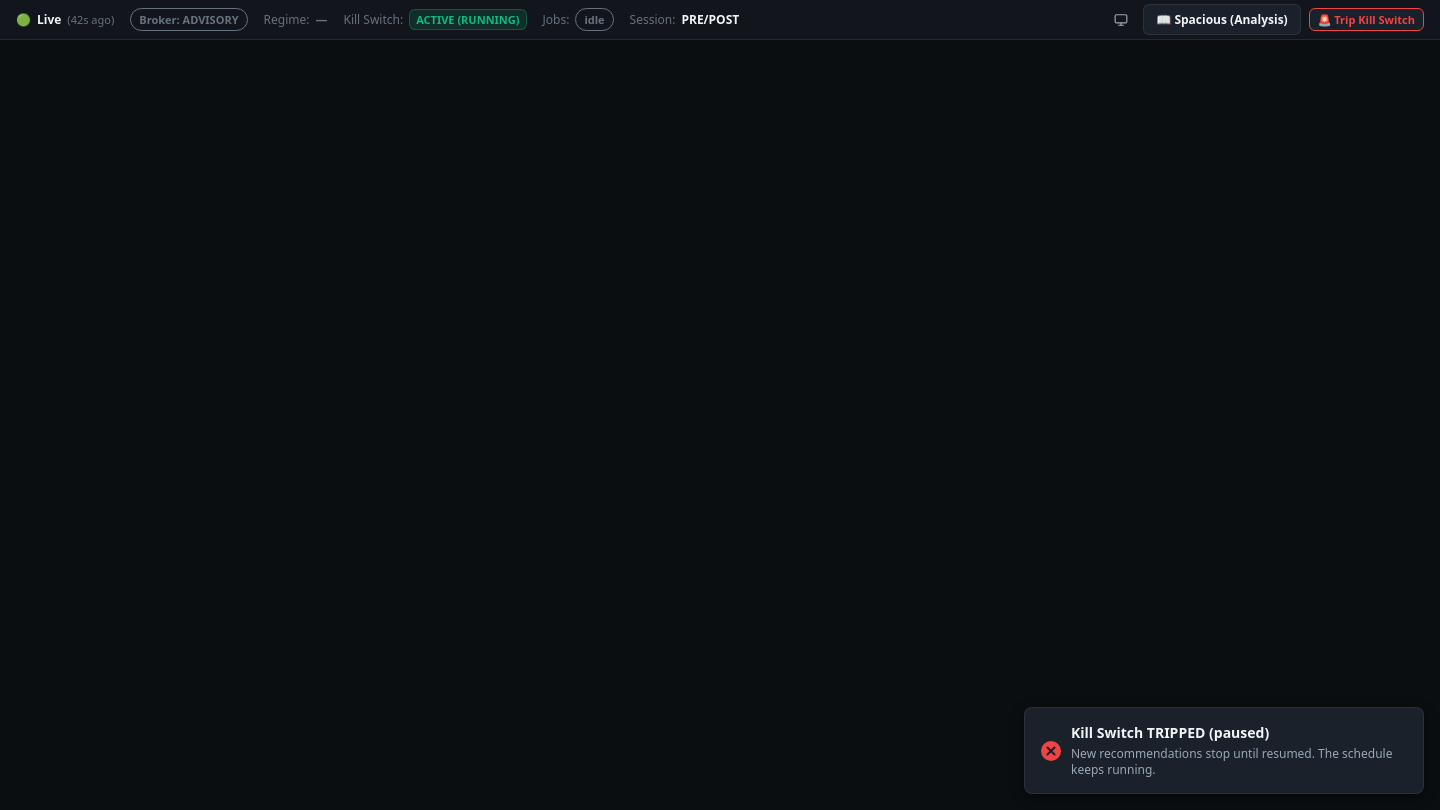
Test: TopStatusBar › shows 'idle' when GET /jobs reports nothing running, and the modal says so too
Step 1. Click the text "idle" → (594, 20), box [575, 8, 614, 31]
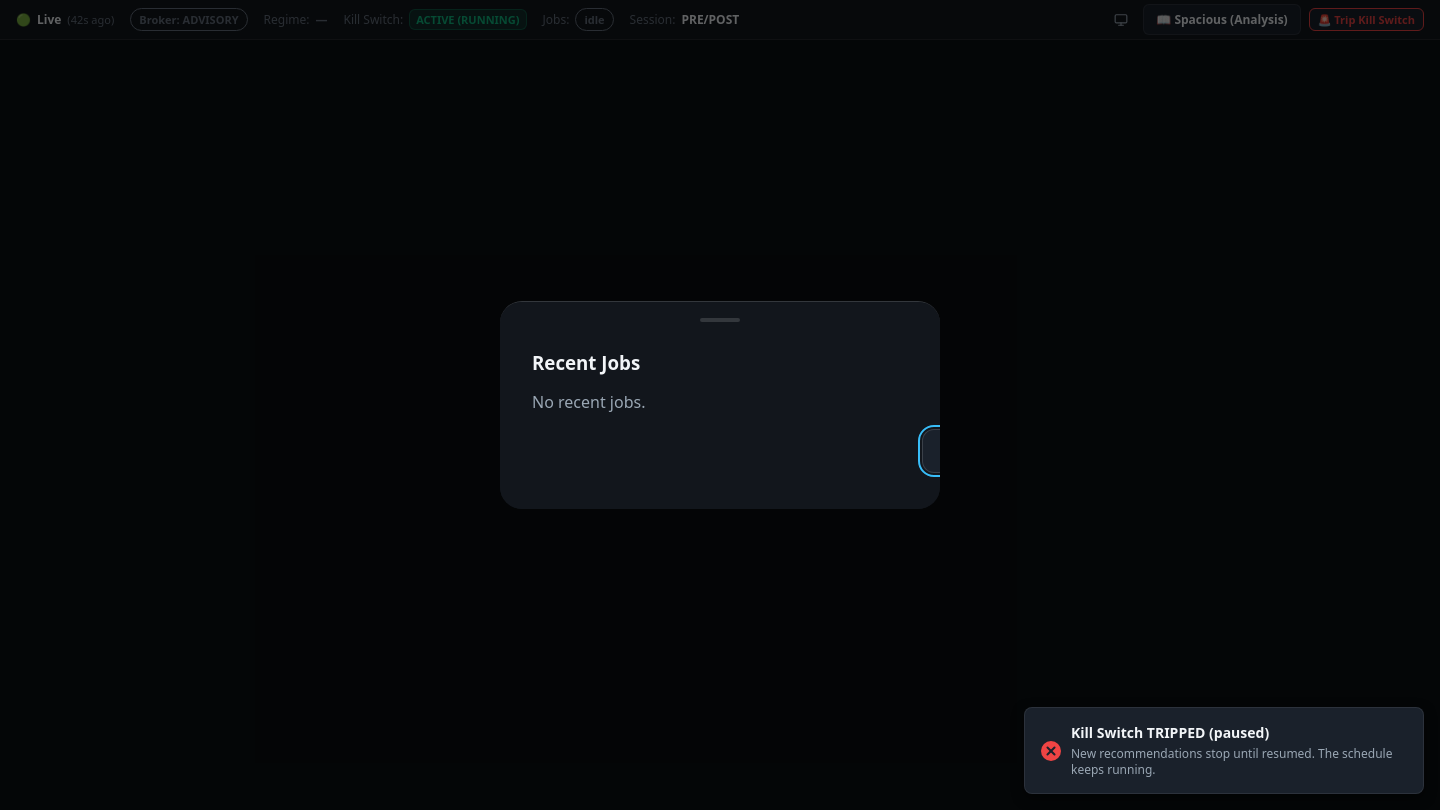
Expected: the text "No recent jobs." is shown, [532, 391, 646, 413]
